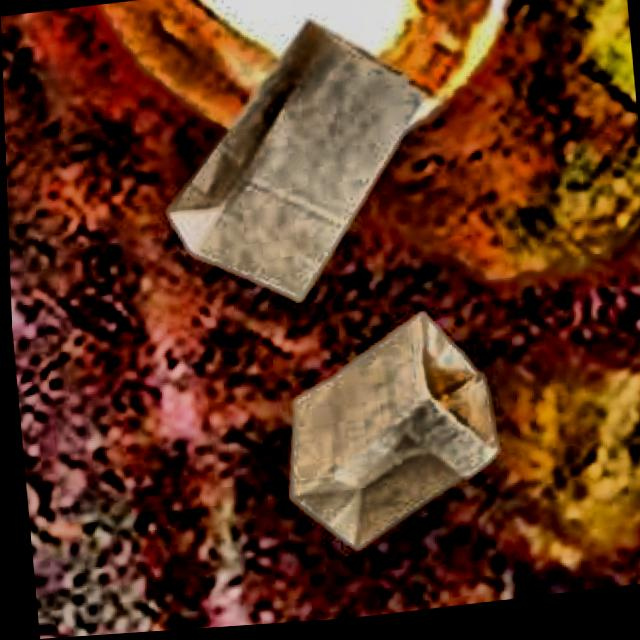Paper-bag: (146, 12, 418, 322), (257, 302, 519, 559)
